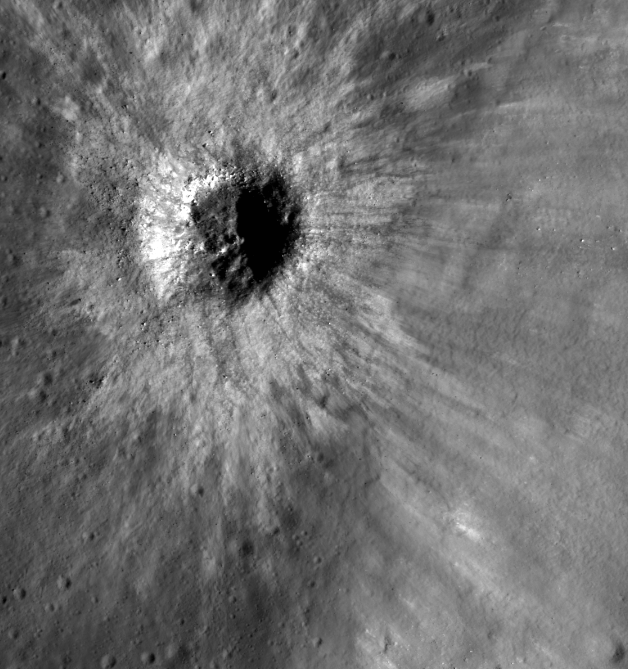crater: (20, 11, 497, 524)
